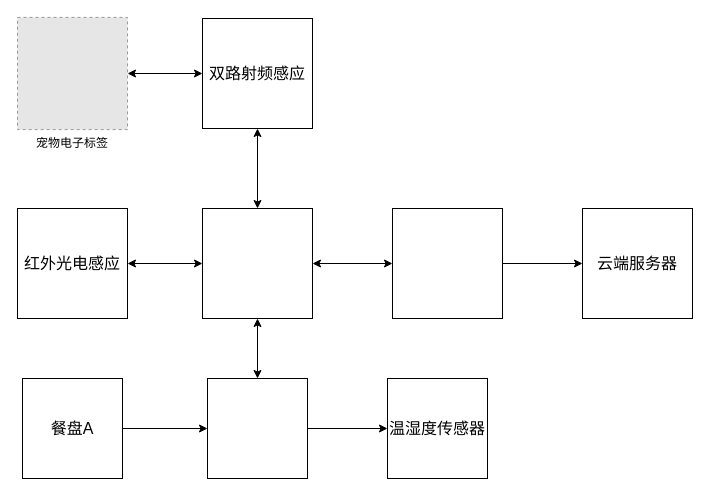
The diagram is 710 pixels wide and 497 high, and some of its shapes have lost their labels. Grey dashed boxes stand in for pictures. Each missing label, with the centre of its shape:
4G智能网关: (447,263)
主控: (257,263)
称重传感器: (257,428)
